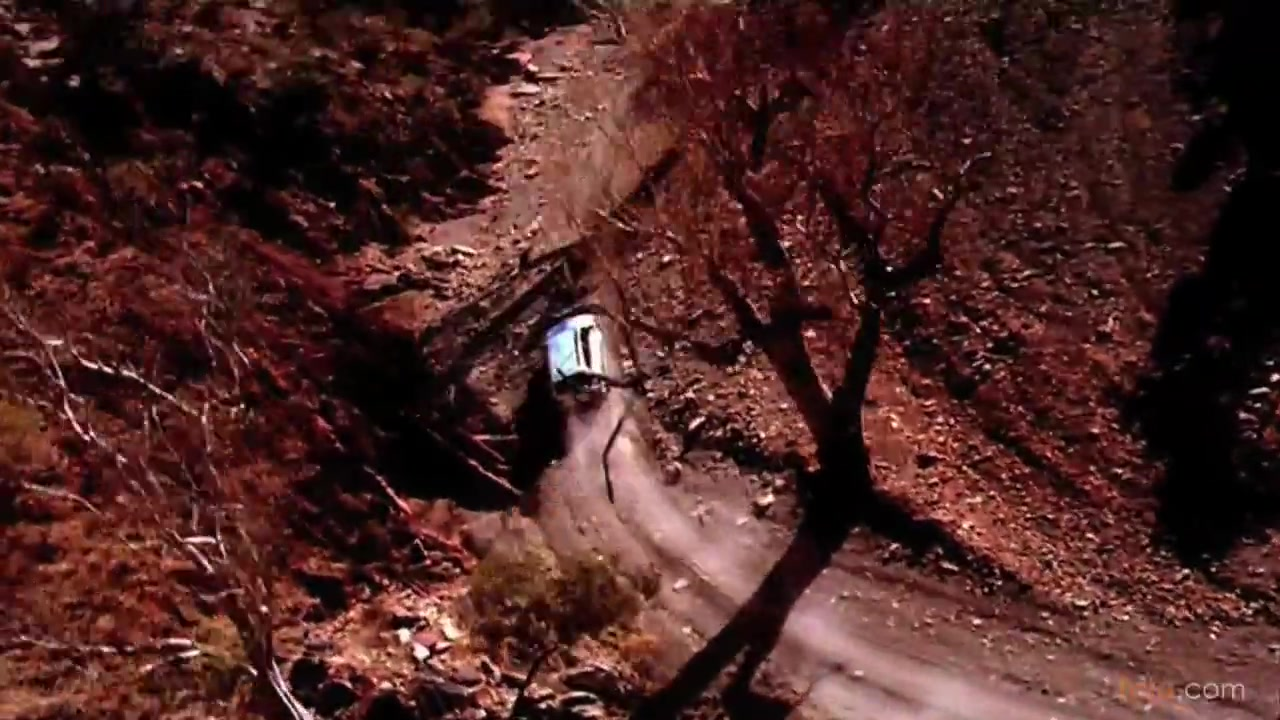car: (544, 309, 607, 401)
